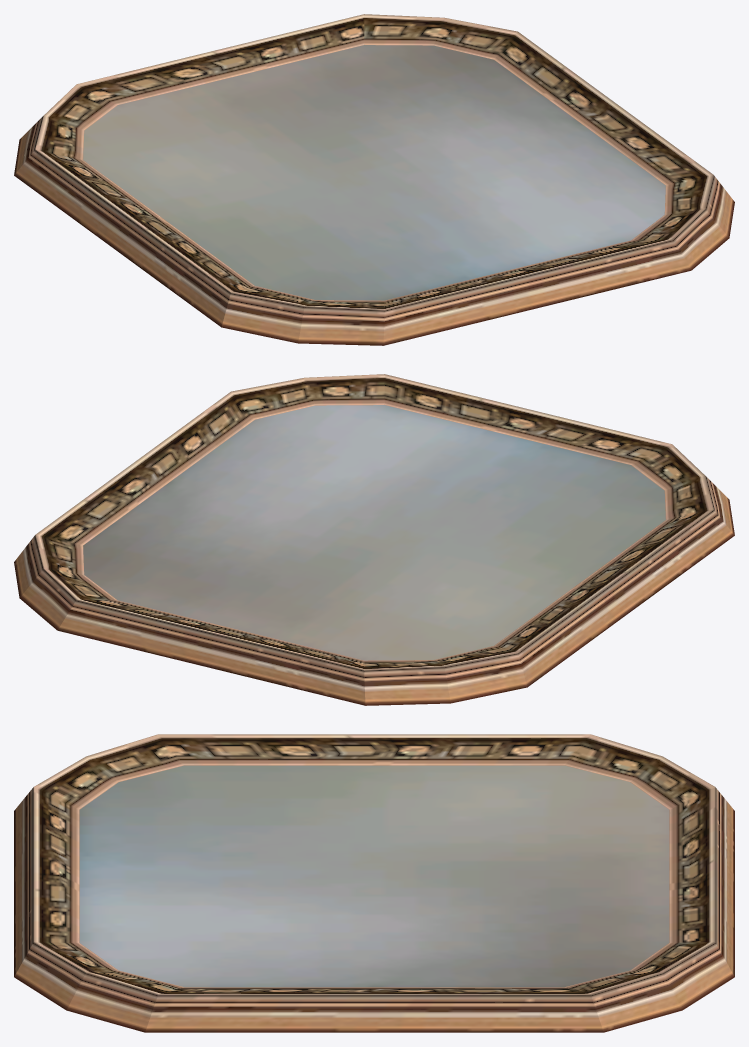
Rendered from mirror_med2.fbx.
3 views of the same model, one above another, from view 1: azimuth 30°, elevation 25°; view 2: azimuth 150°, elevation 25°; view 3: azimuth 270°, elevation 25° (orthographic). The views are drawn at different scales.
Visible parts, largest first — view 1: mesh_0; view 2: mesh_0; view 3: mesh_0.
Boxes of the visible parts, x1,y1,x2,y2 form: mesh_0: (14,14,734,345); mesh_0: (14,374,734,705); mesh_0: (14,734,734,1032).
Size of the model in its own units: 100 by 5 by 110.
1 material, 1 textured.
